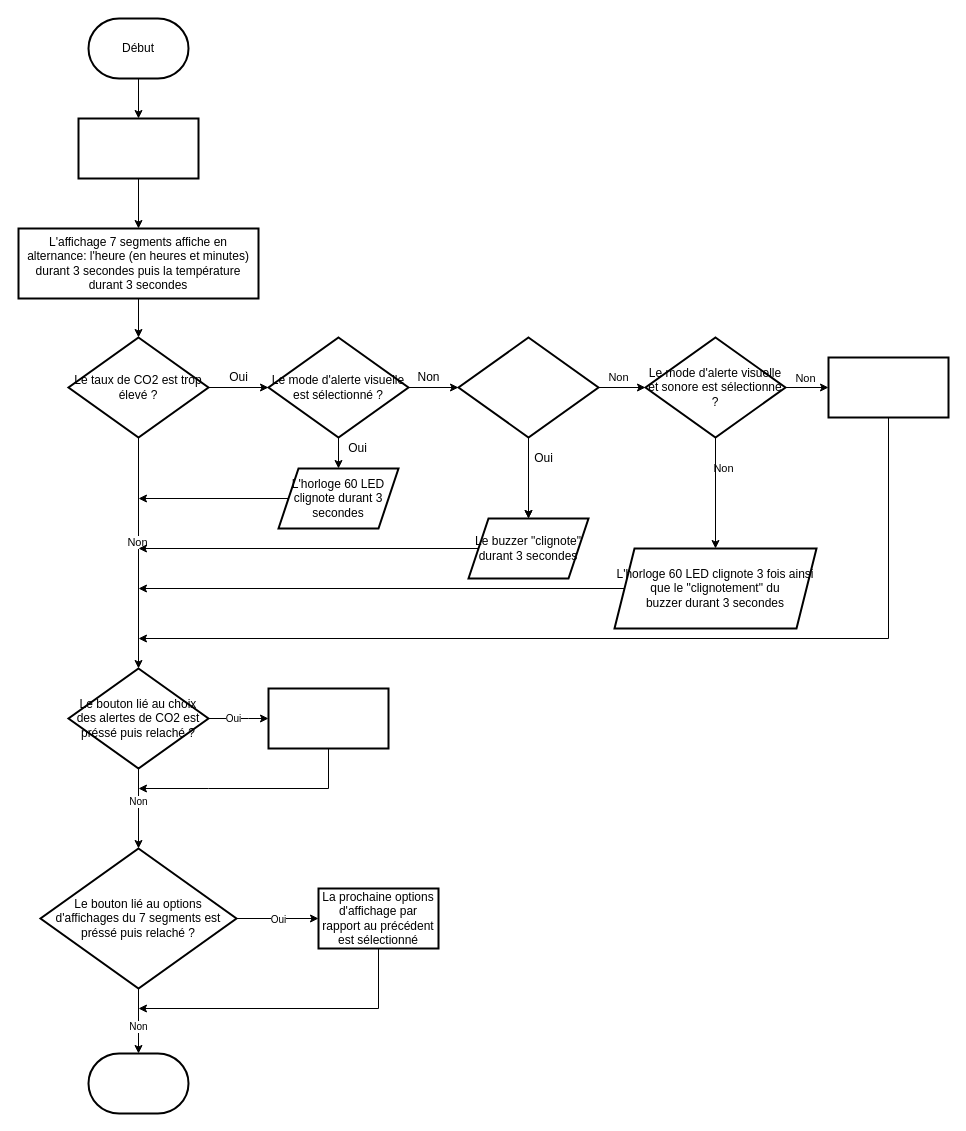
Some shapes in this 966 by 1131 pixel diagram are drawn without their labels. The shapes that lost their labels are listed below. From the top down, each one's centre as x and y in pixels, then its label:
(138,148): L'heure est affichée sur l'horloge 60 LED
(528,387): Le mode d'alerte sonore est sélectionné ?
(888,387): Aucune alertes n'est affichée
(328,718): Le prochain mode d'alerte par rapport au précédent est sélectionné
(138,1083): Fin
